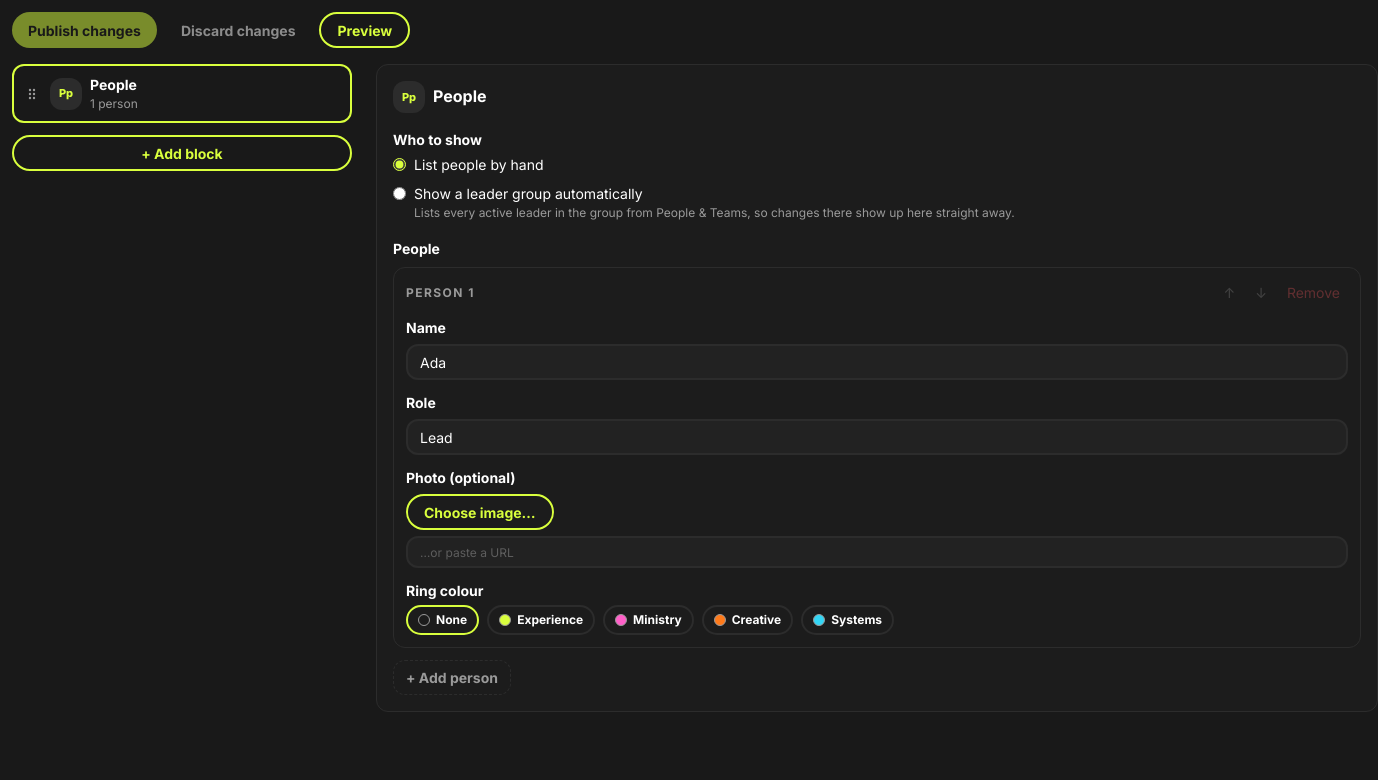
Test: BlockEditor › switches a people block to a leader group
Click the radio button labelled "Show a leader group automatically" at point(400, 194), box left=393, top=187, right=406, bottom=200
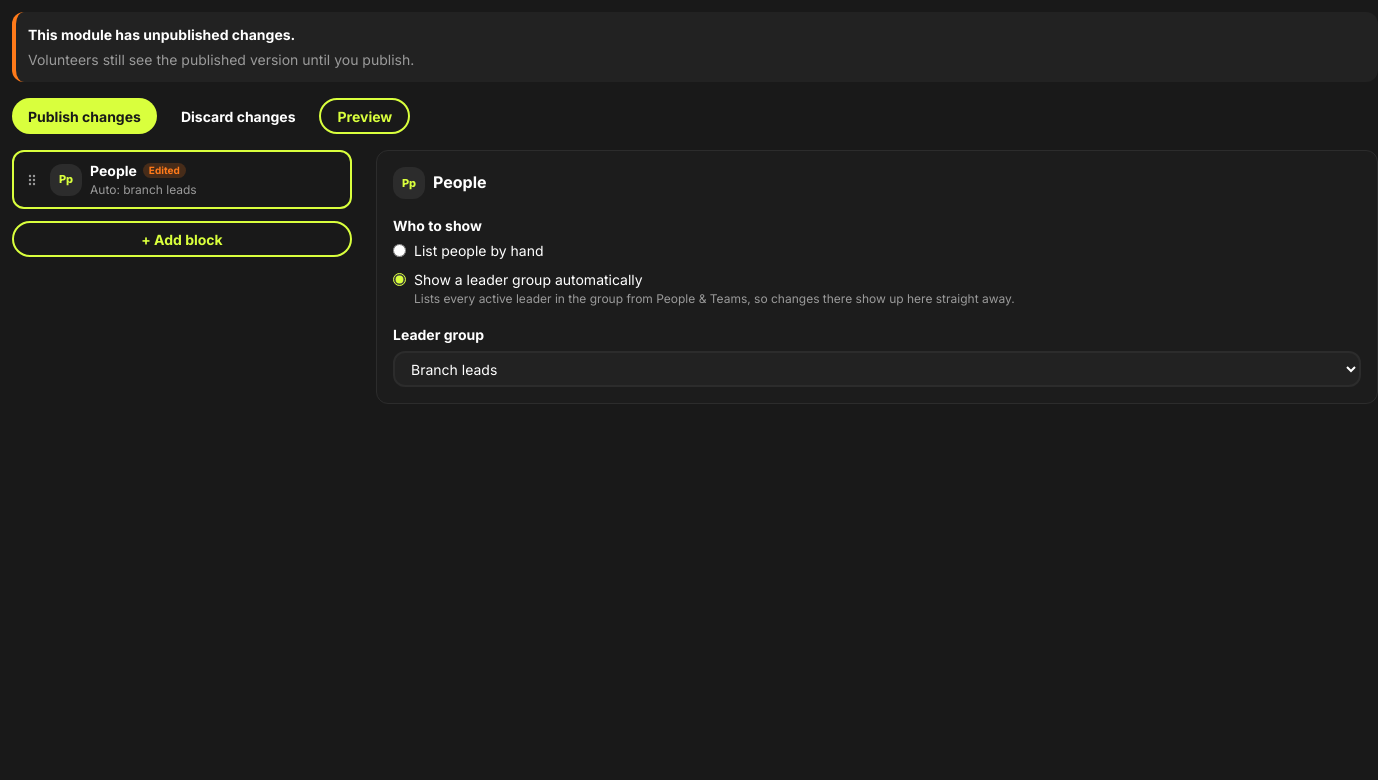
Now the dropdown labelled "Leader group" shows "Branch leads", box left=393, top=351, right=1361, bottom=387
Now the label "Name" is gone
Now the text "Auto: branch leads" is shown, box left=90, top=181, right=197, bottom=199
